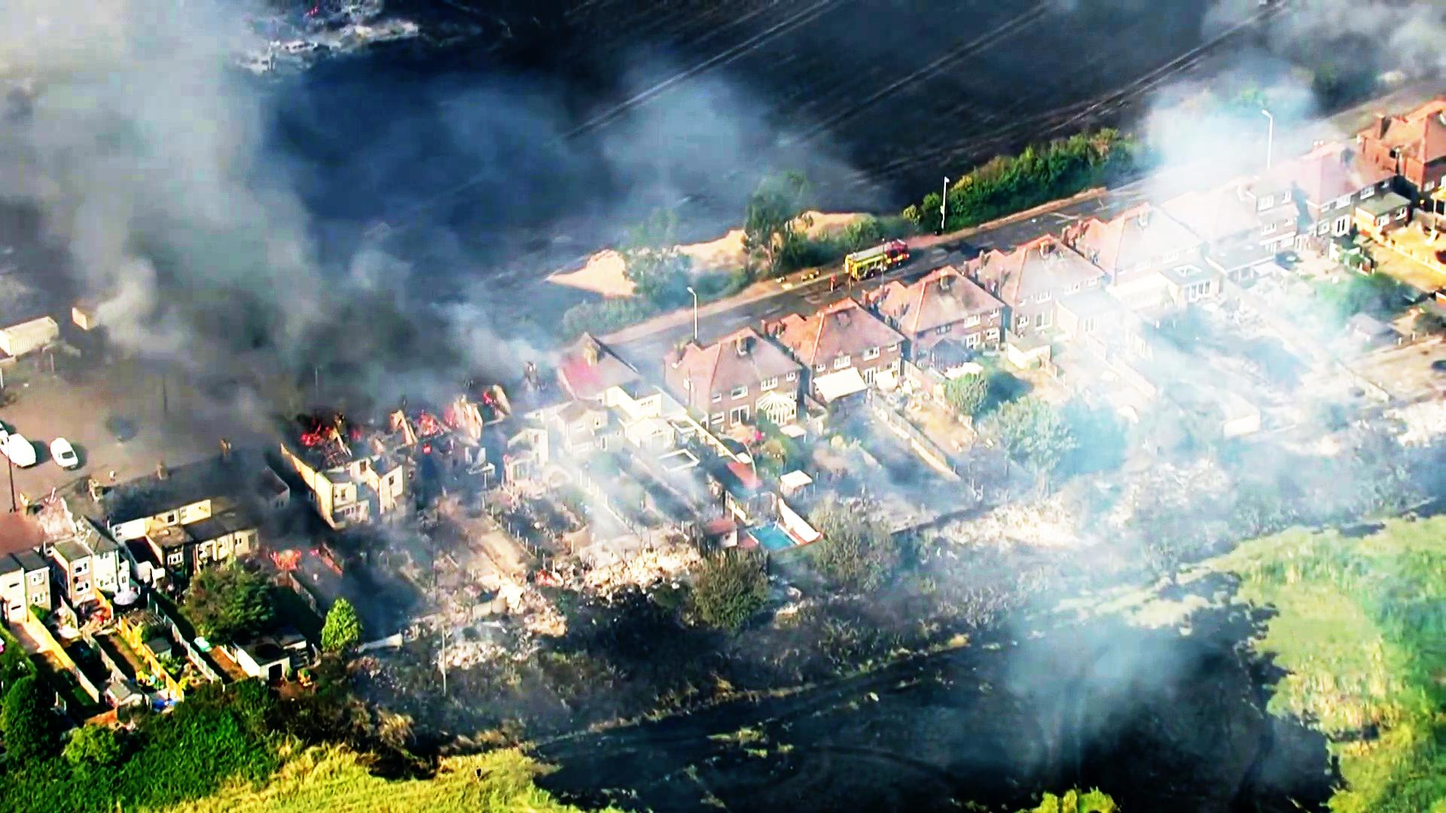smoke: (0, 0, 238, 315), (177, 238, 465, 414)
